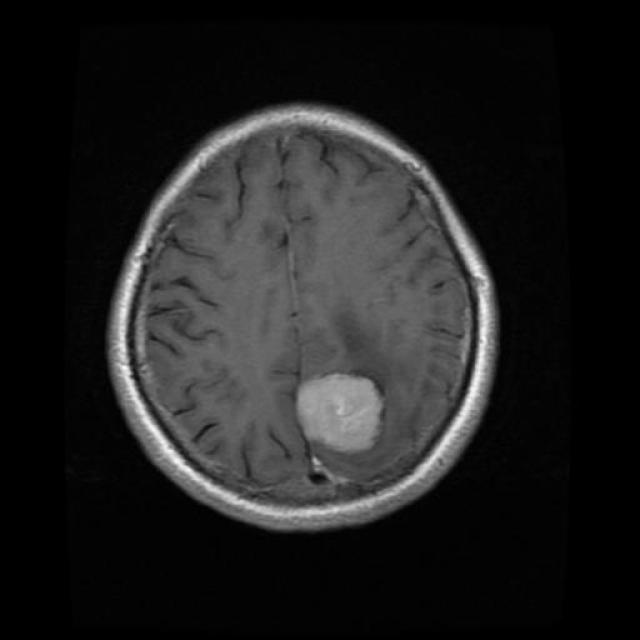Tumor: (294, 368, 384, 454)
